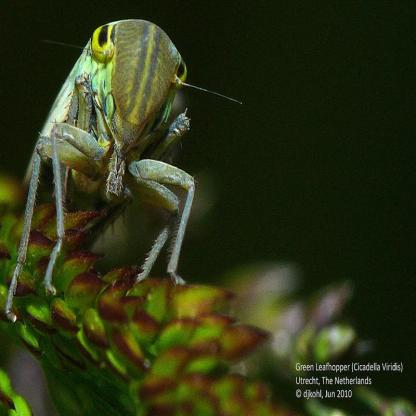Green-Leafhopper: (6, 17, 223, 322)
